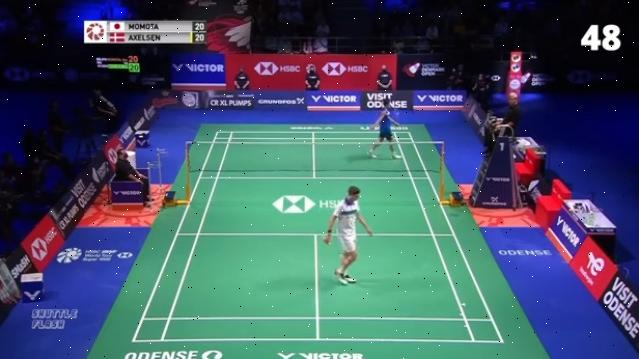Shuttlecock: (460, 301, 468, 309)
